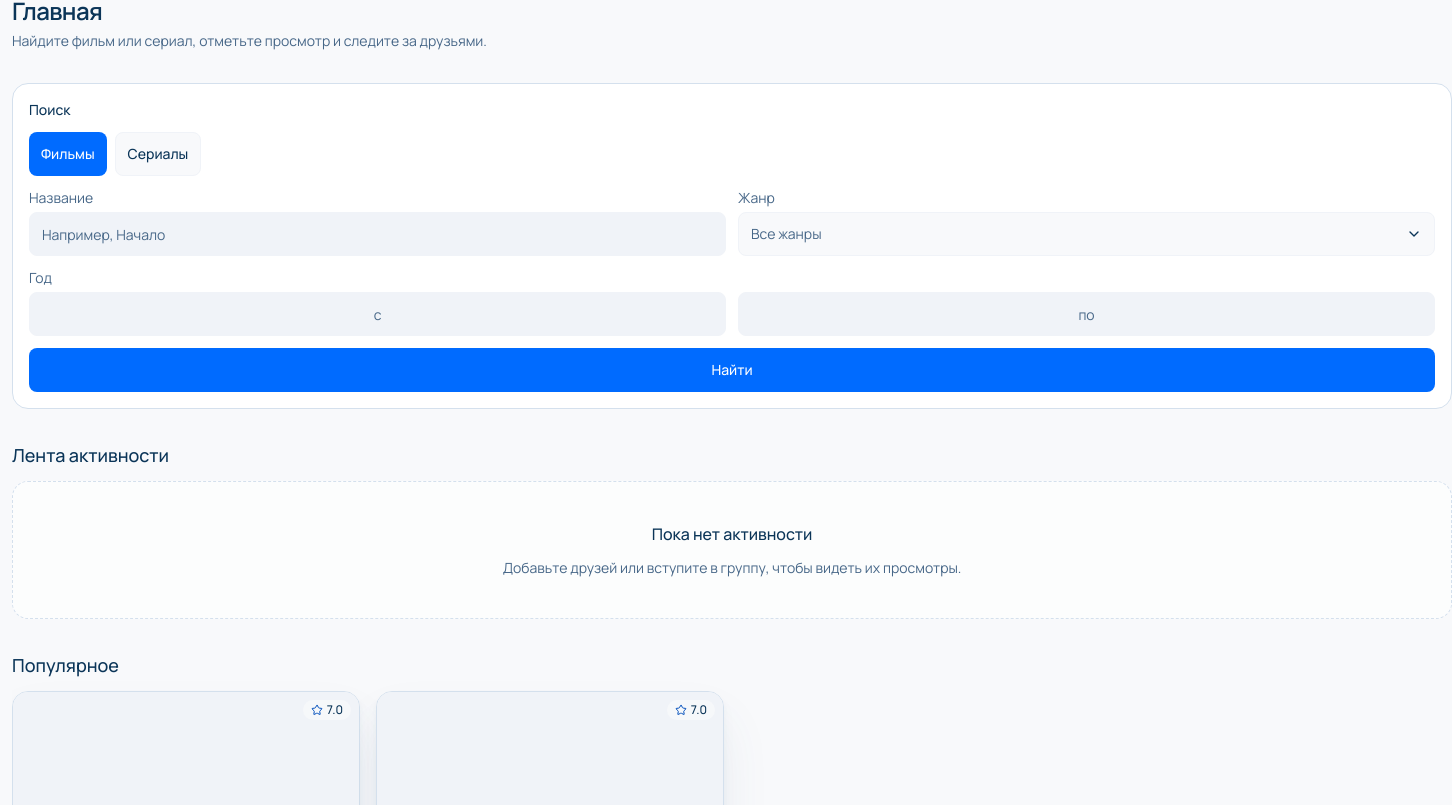
Test case: HomeView › appends the next page and resets to the first page on a new search
Click the button "Найти": (732, 370) [29,348,1435,392]
(page scrolled)
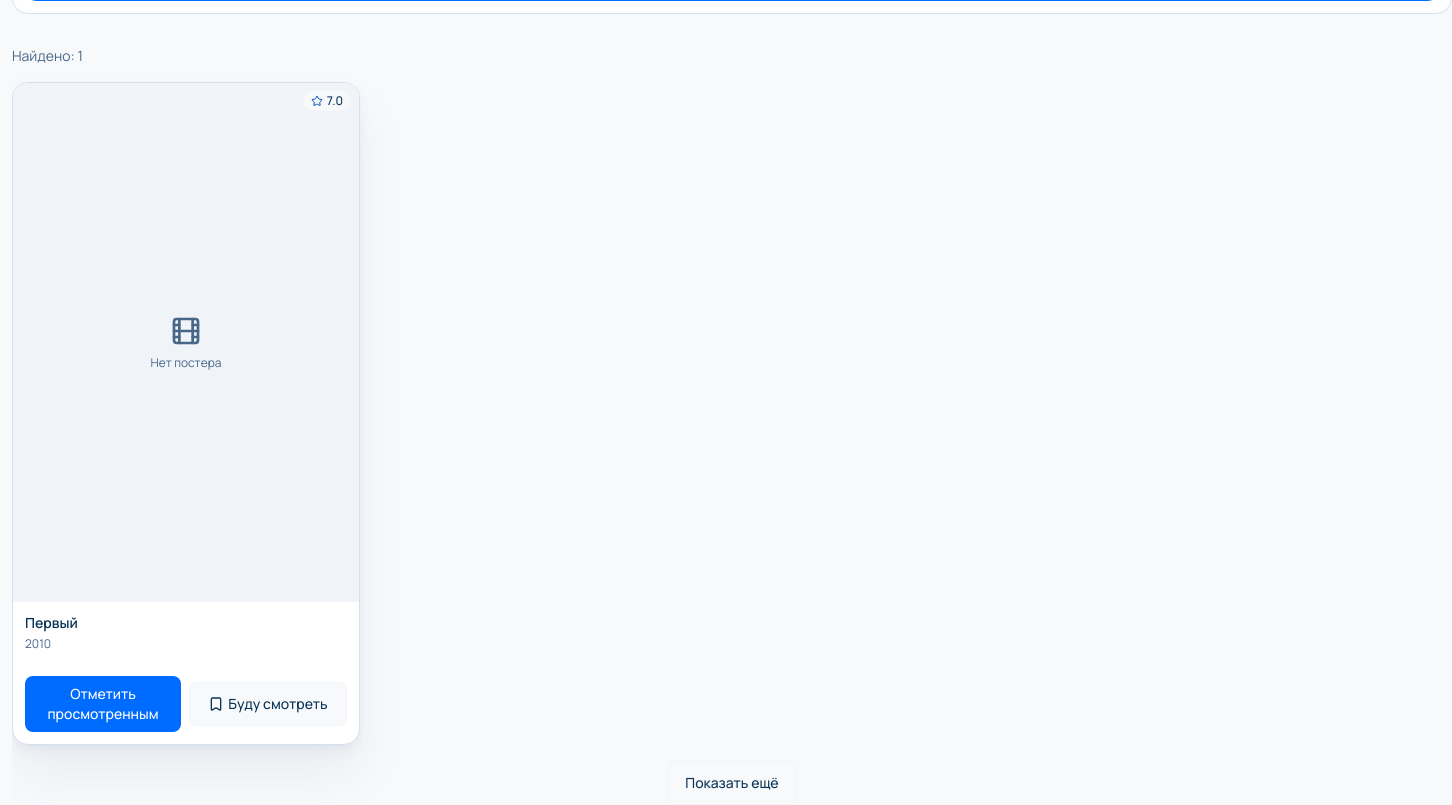
Result: the heading "Первый" is shown at [25,613,78,632]
Click the button "Показать ещё": (732, 782) [668,760,796,804]
(page scrolled)
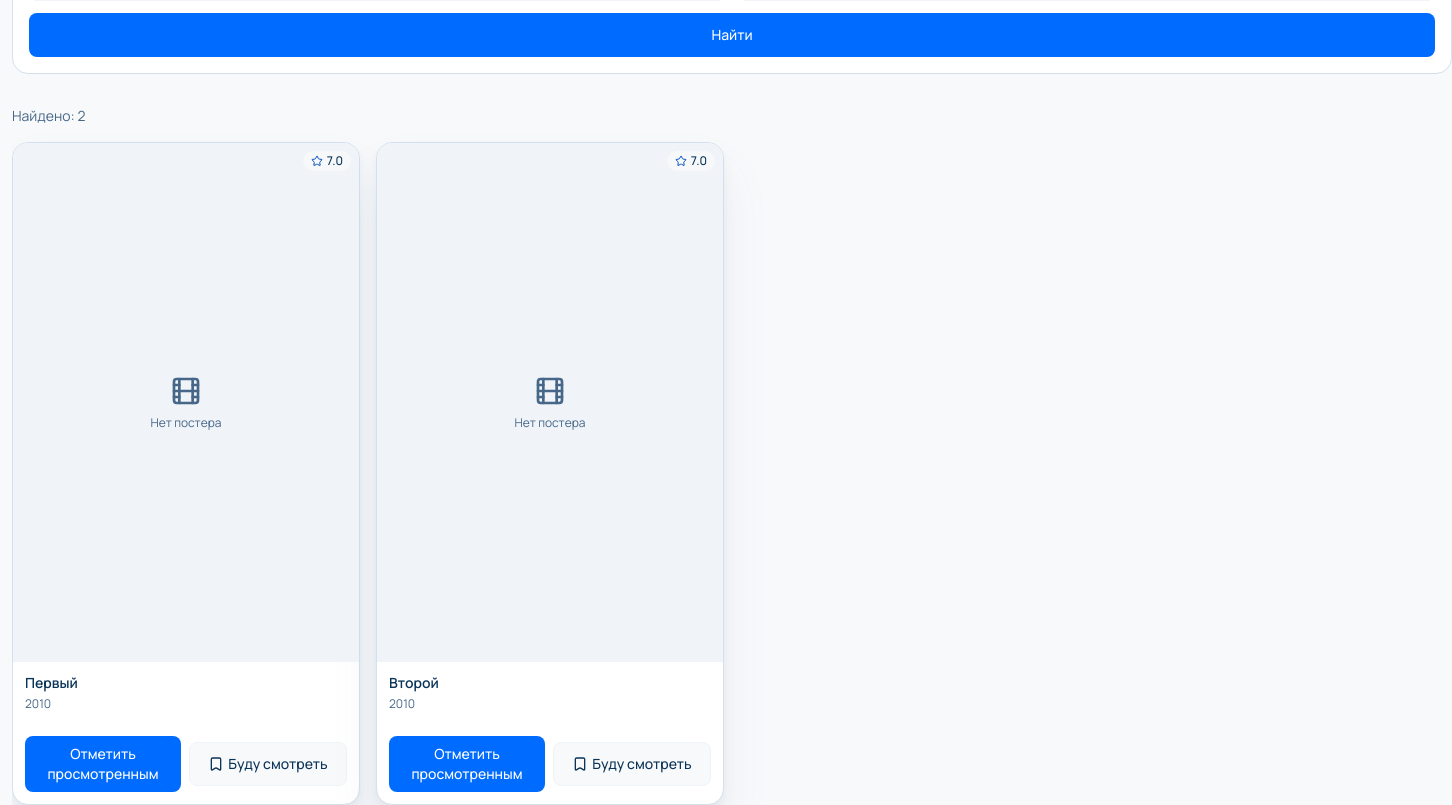
Result: the heading "Первый" is shown at [25,673,78,692]
Result: the heading "Второй" is shown at [389,673,439,692]
Result: the button "Показать ещё" is gone
Click the button "Найти": (732, 35) [29,13,1435,57]
(page scrolled)
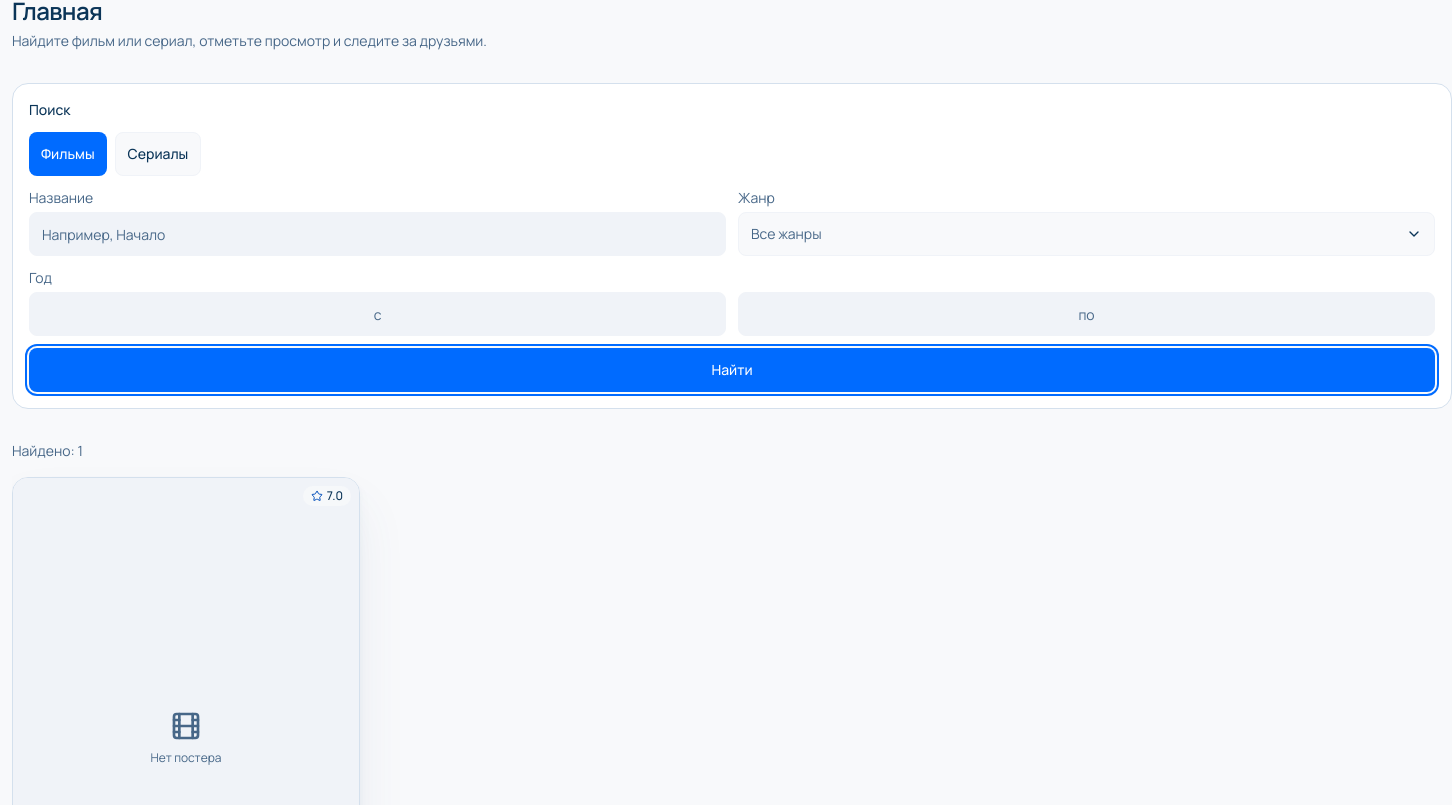
Result: the link "Второй" is gone
